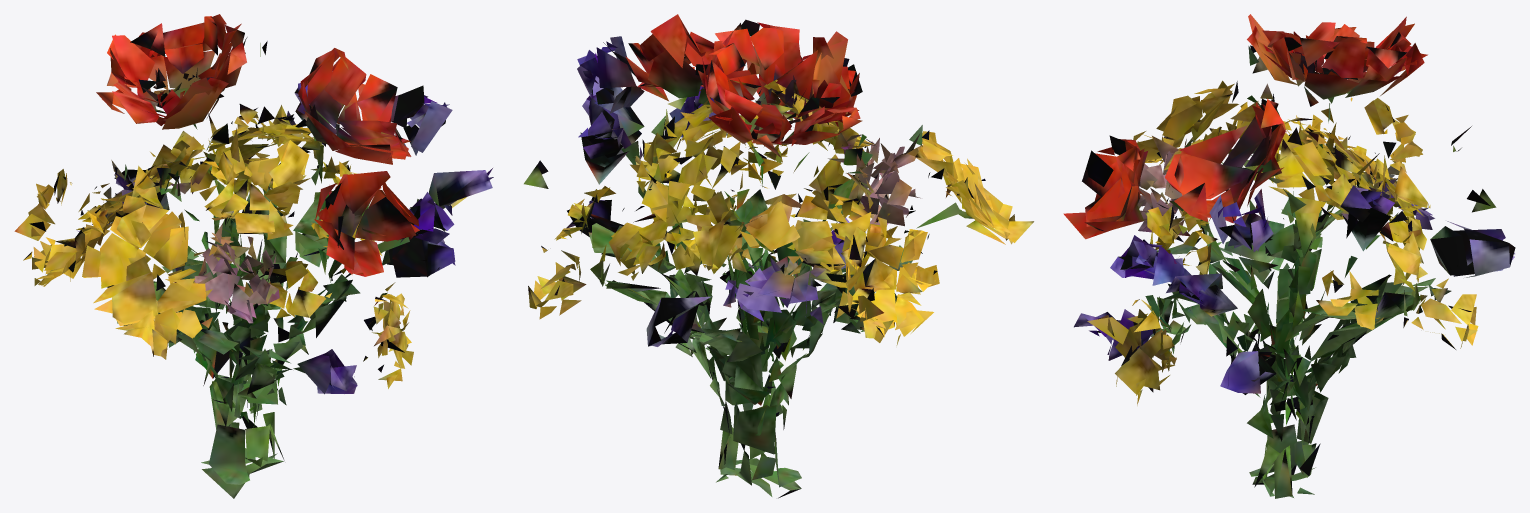
File: bouquet_wild_lod0.glb
3 renders of one model, left to right at view 1: azimuth 30°, elevation 25°; view 2: azimuth 150°, elevation 25°; view 3: azimuth 270°, elevation 25°, orthographic. The views are drawn at different scales.
Visible parts, largest first — view 1: bouquet_wild_lod0; view 2: bouquet_wild_lod0; view 3: bouquet_wild_lod0.
Part boxes in pixels (bbox=[...]): bouquet_wild_lod0: bbox=[14, 14, 493, 498]; bouquet_wild_lod0: bbox=[524, 14, 1033, 498]; bouquet_wild_lod0: bbox=[1063, 14, 1515, 498].
Size of the model in its own units: 0.4744 by 0.5053 by 0.4459.
Materials: 1 (1 with a texture image).
